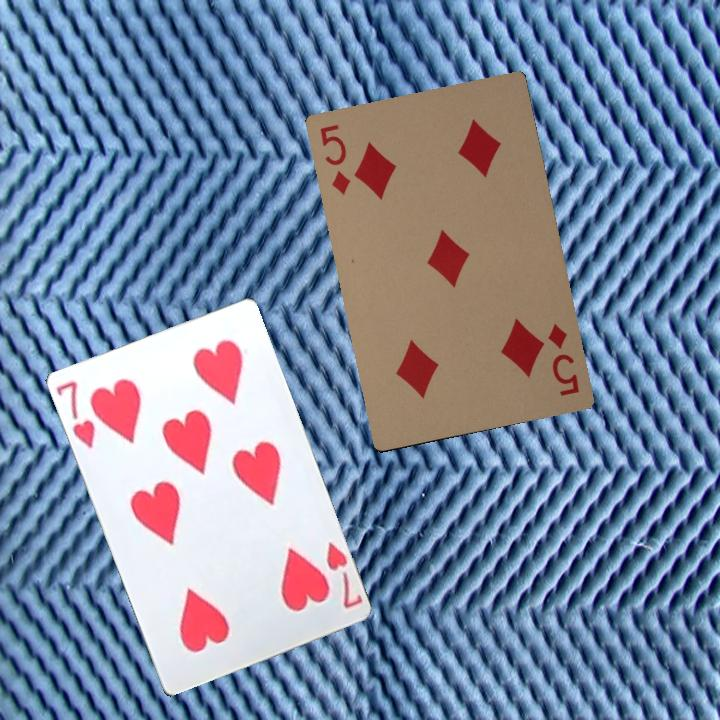5d: (544, 320, 582, 398), (315, 120, 353, 198)
7h: (52, 376, 98, 451), (322, 537, 365, 612)
